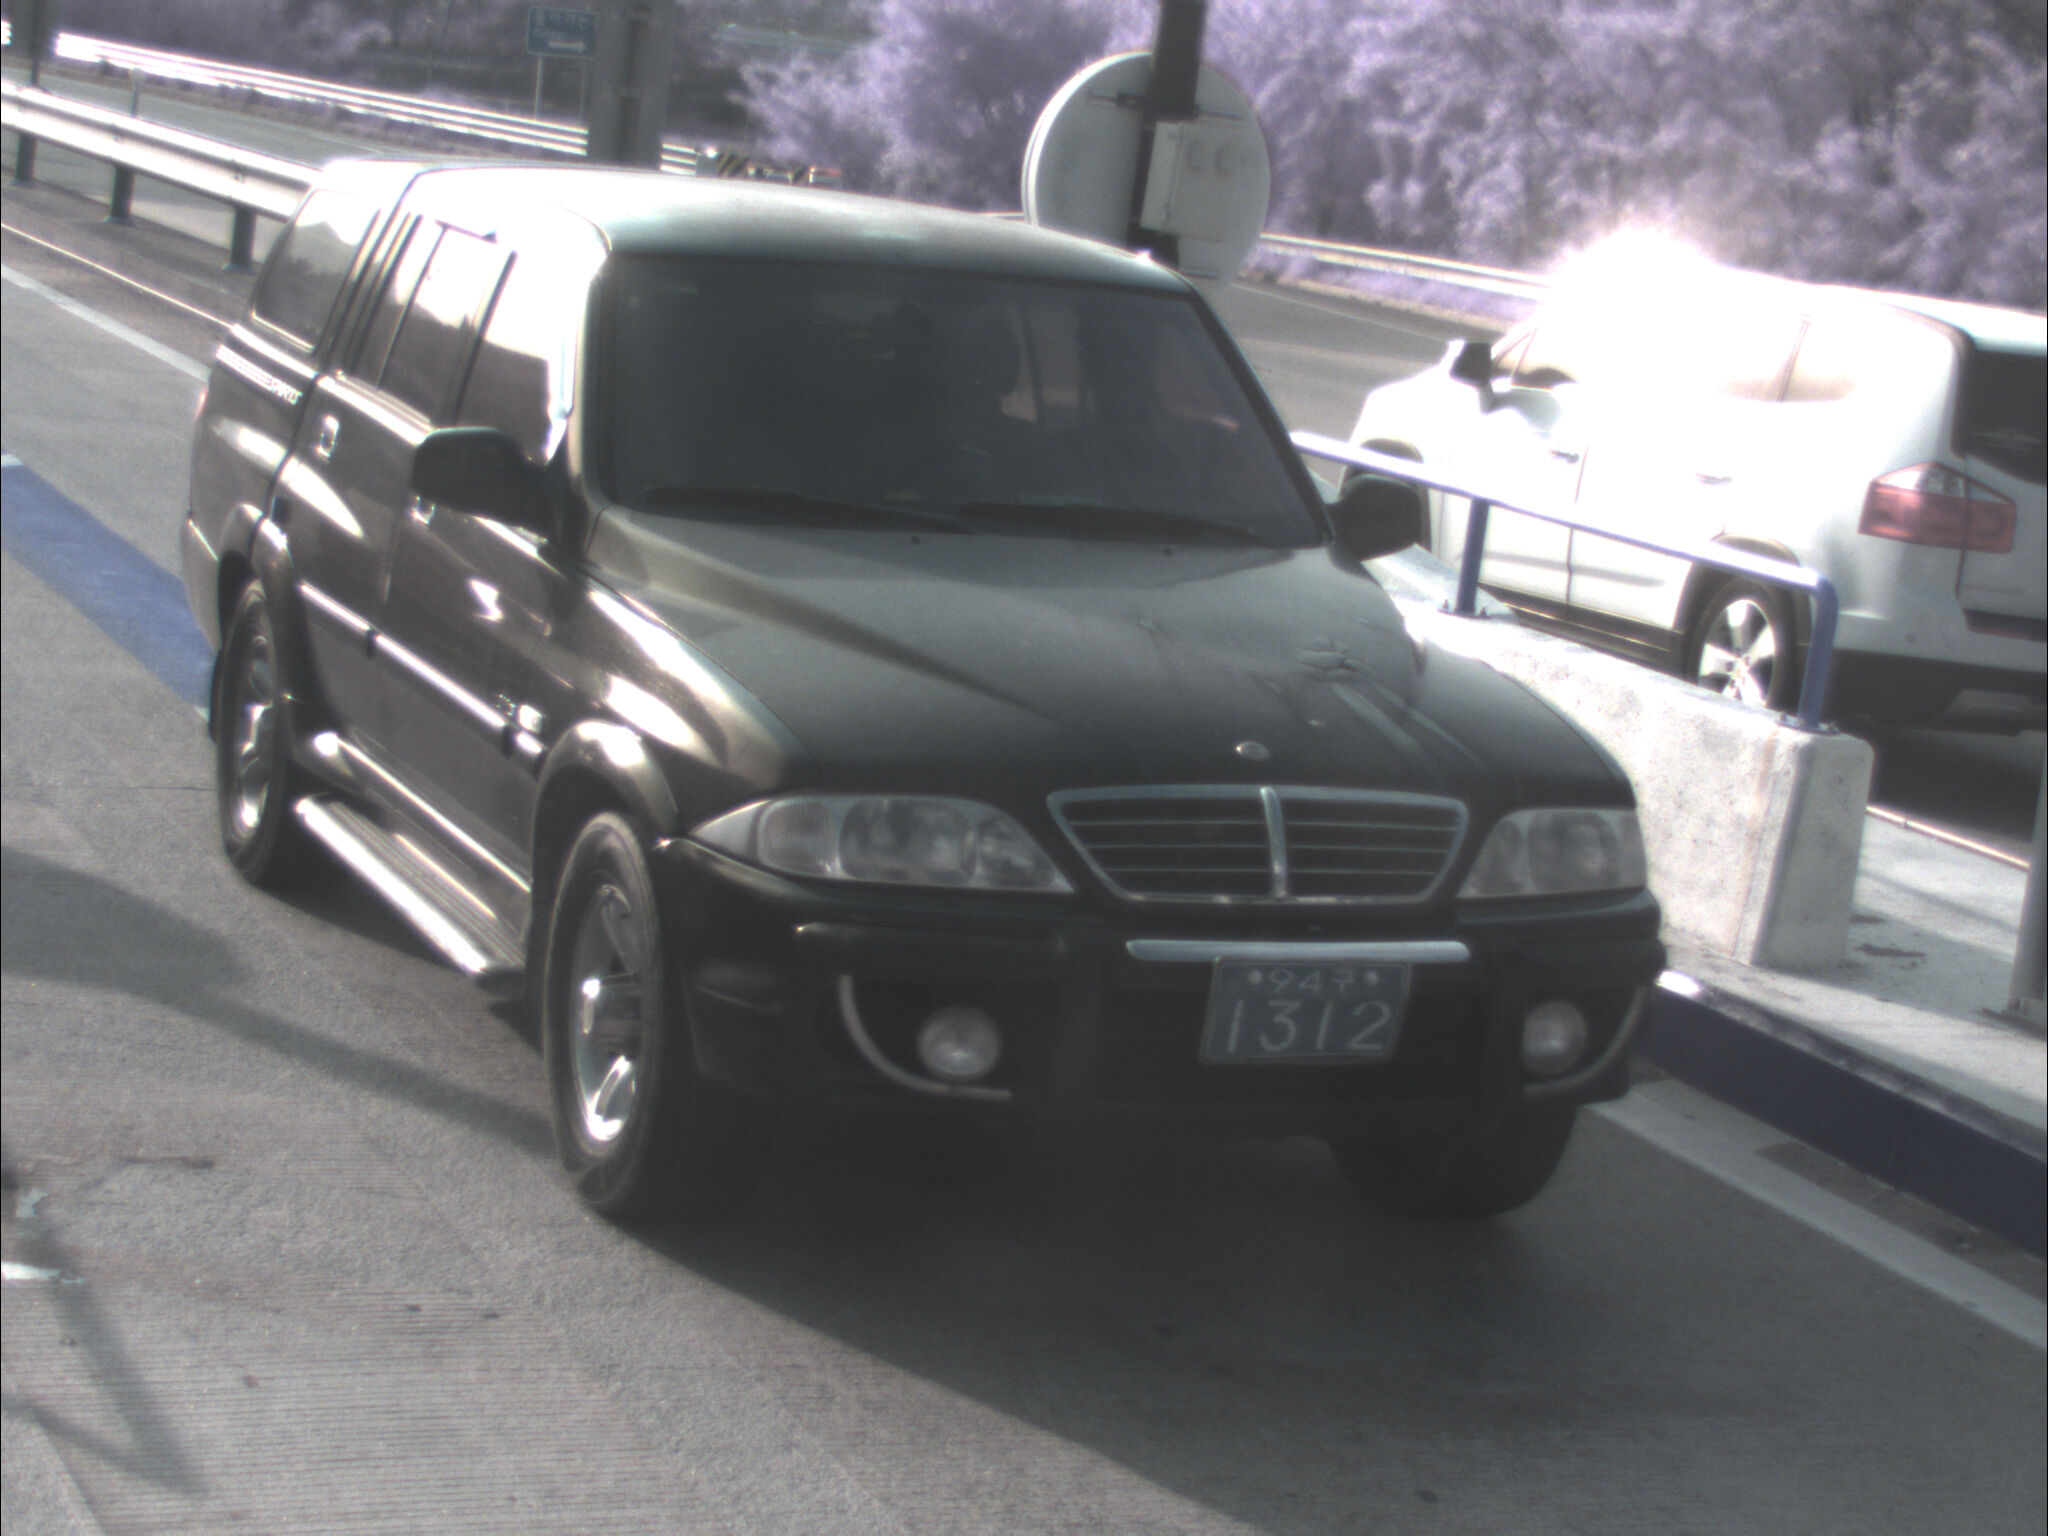car: (175, 151, 1676, 1232)
plate: (1188, 951, 1423, 1069)
